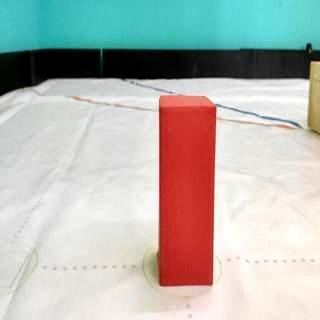redbox: (159, 96, 215, 286)
